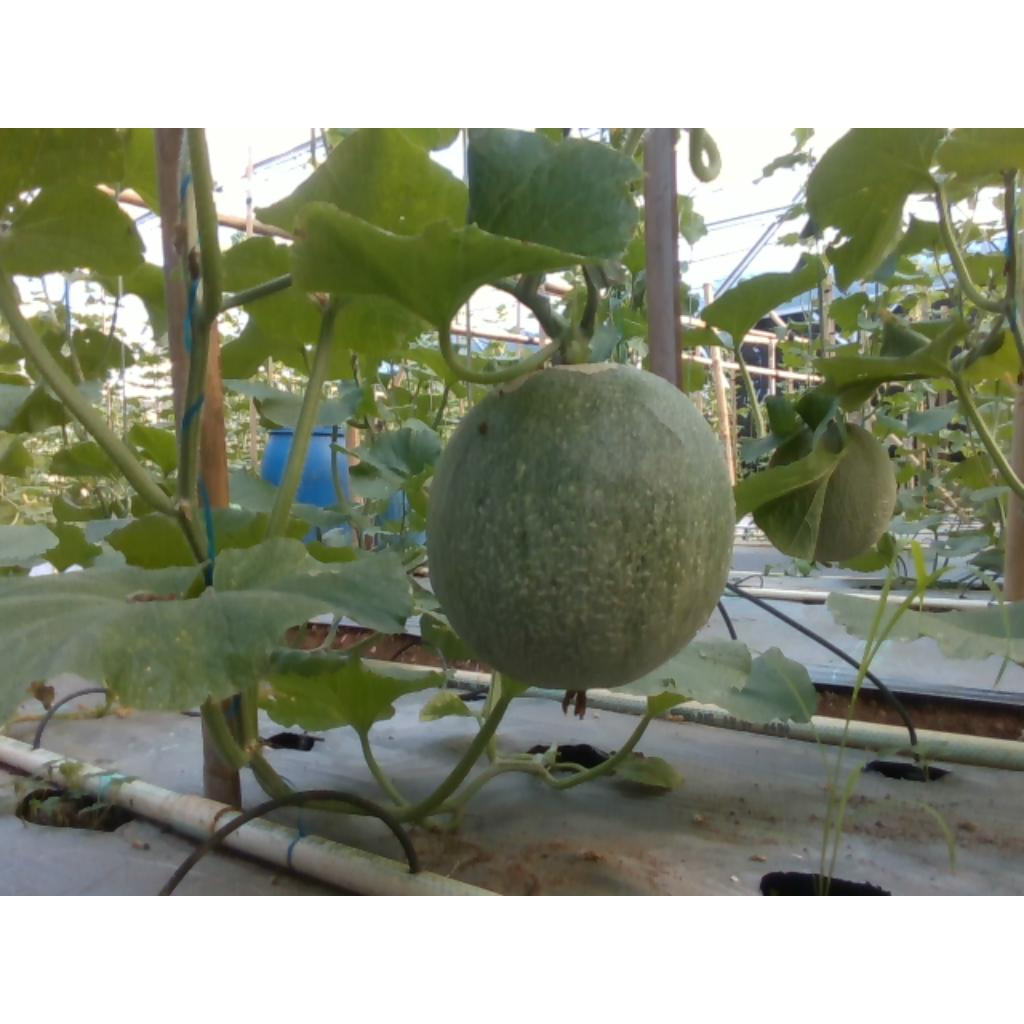melon: (430, 363, 736, 690)
